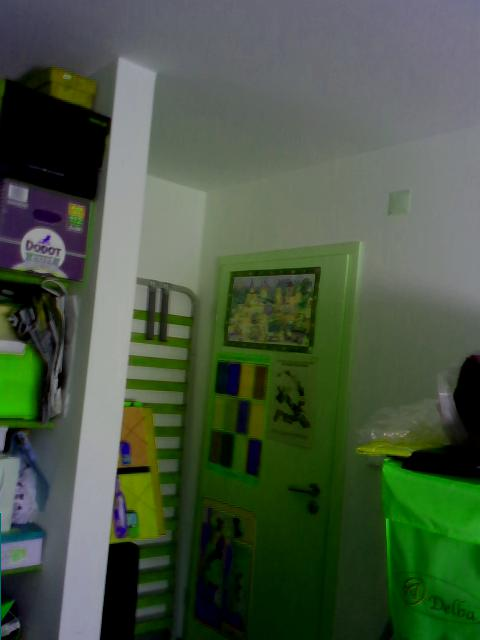closed_door: (179, 241, 360, 639)
